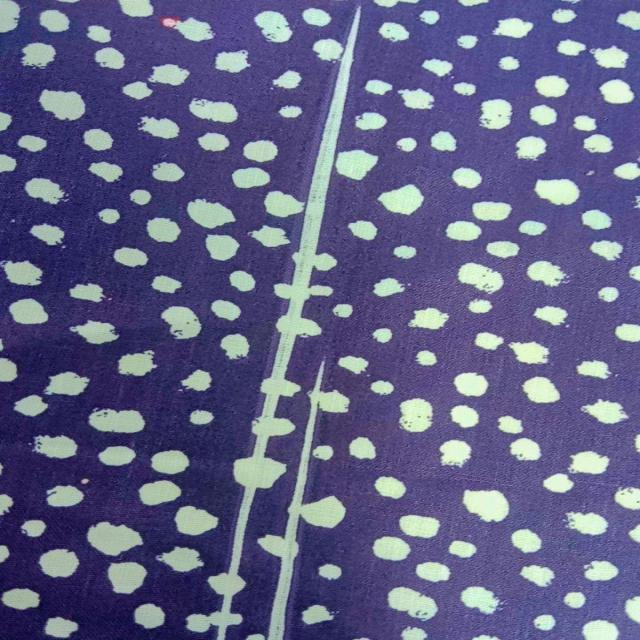selvet: (208, 319, 332, 638), (274, 0, 374, 321)
